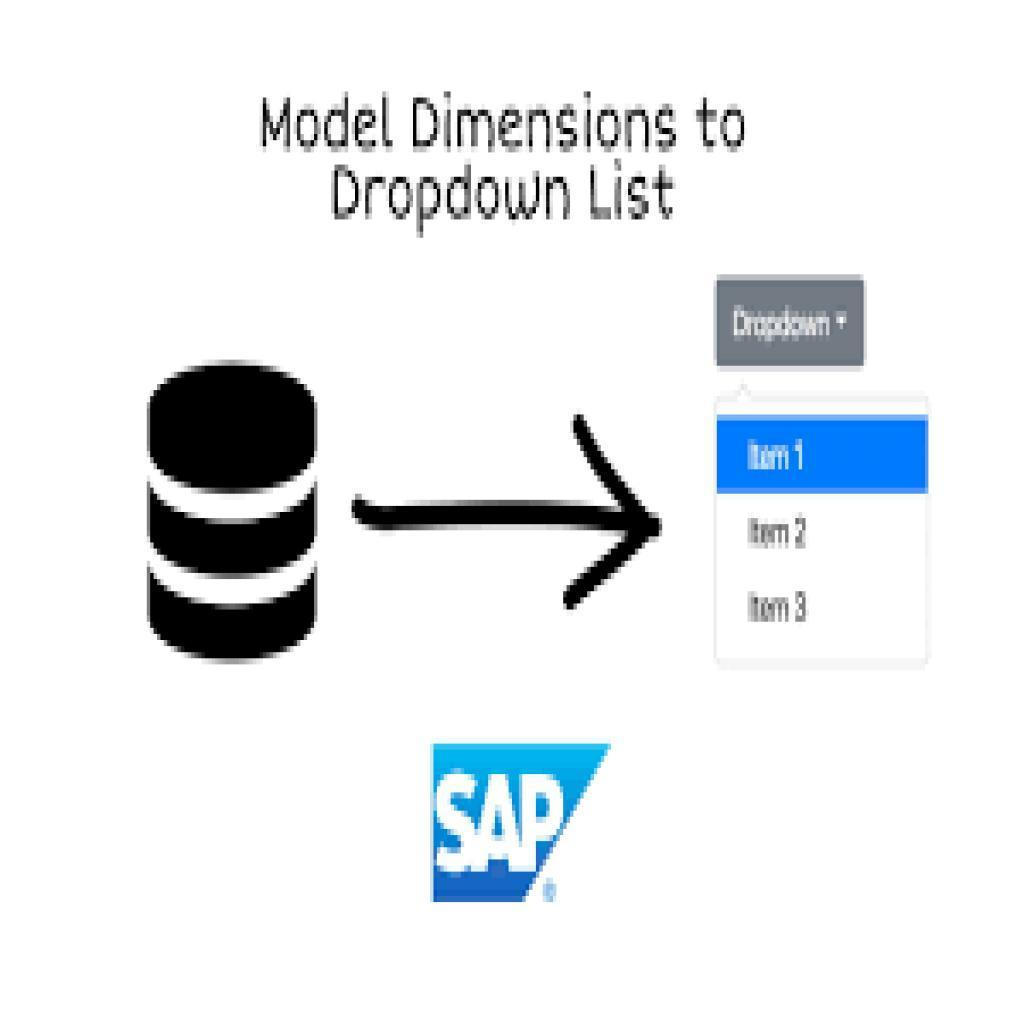dropdown: (717, 276, 867, 369)
icon: (135, 358, 331, 673)
